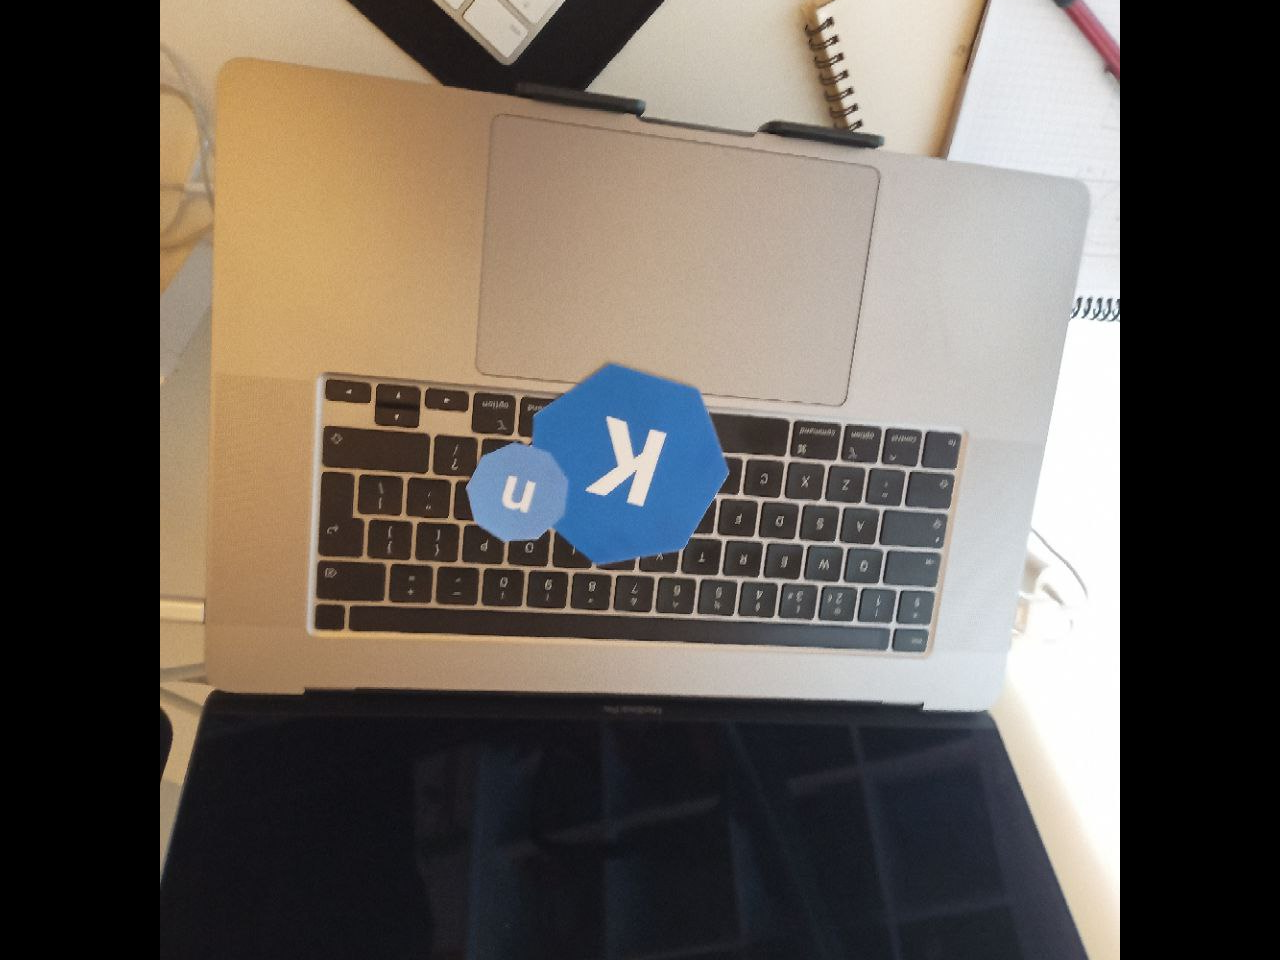knative: (464, 360, 730, 566)
